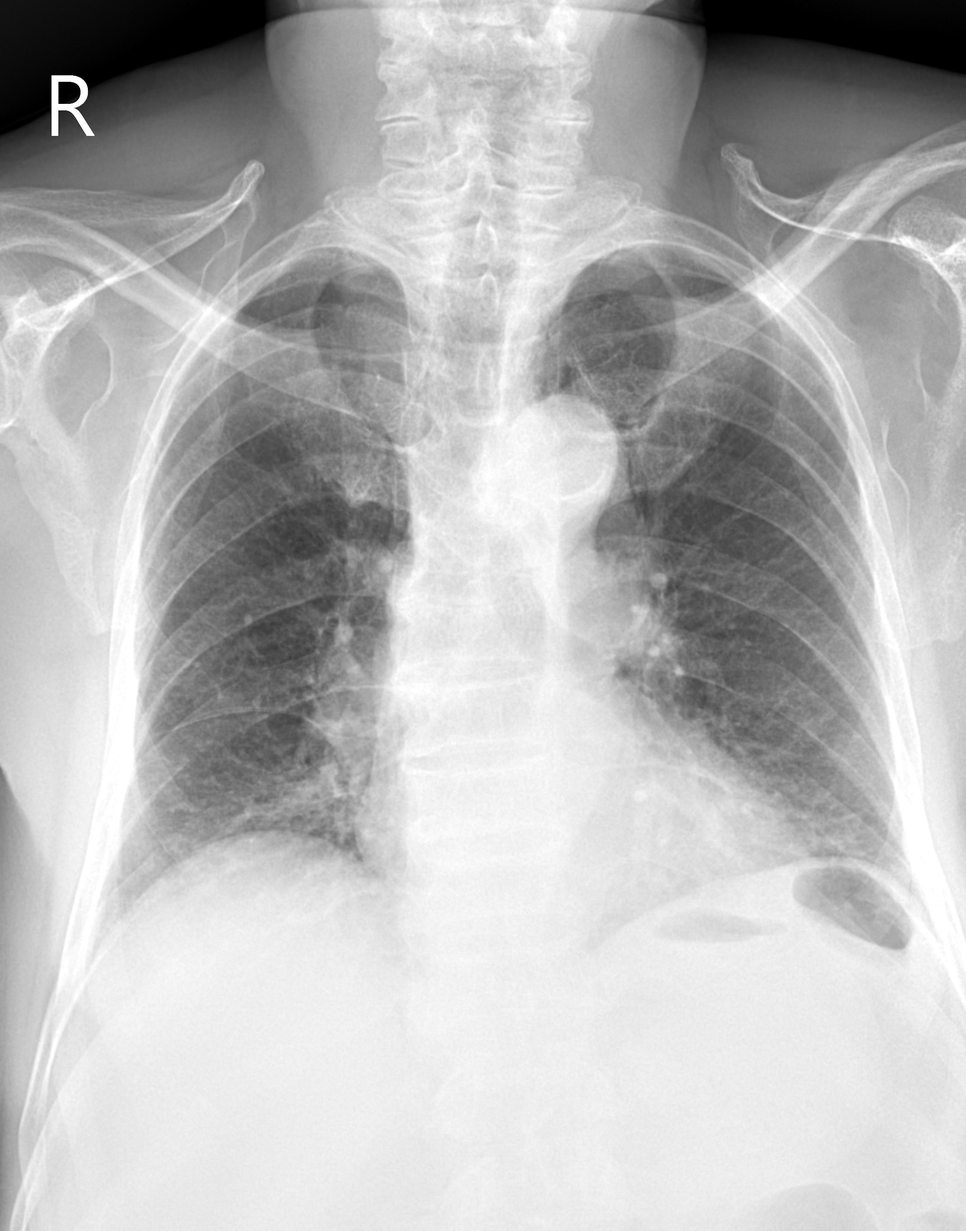Aortic enlargement: (492, 389, 624, 518)
Cardiomegaly: (351, 802, 815, 908)
